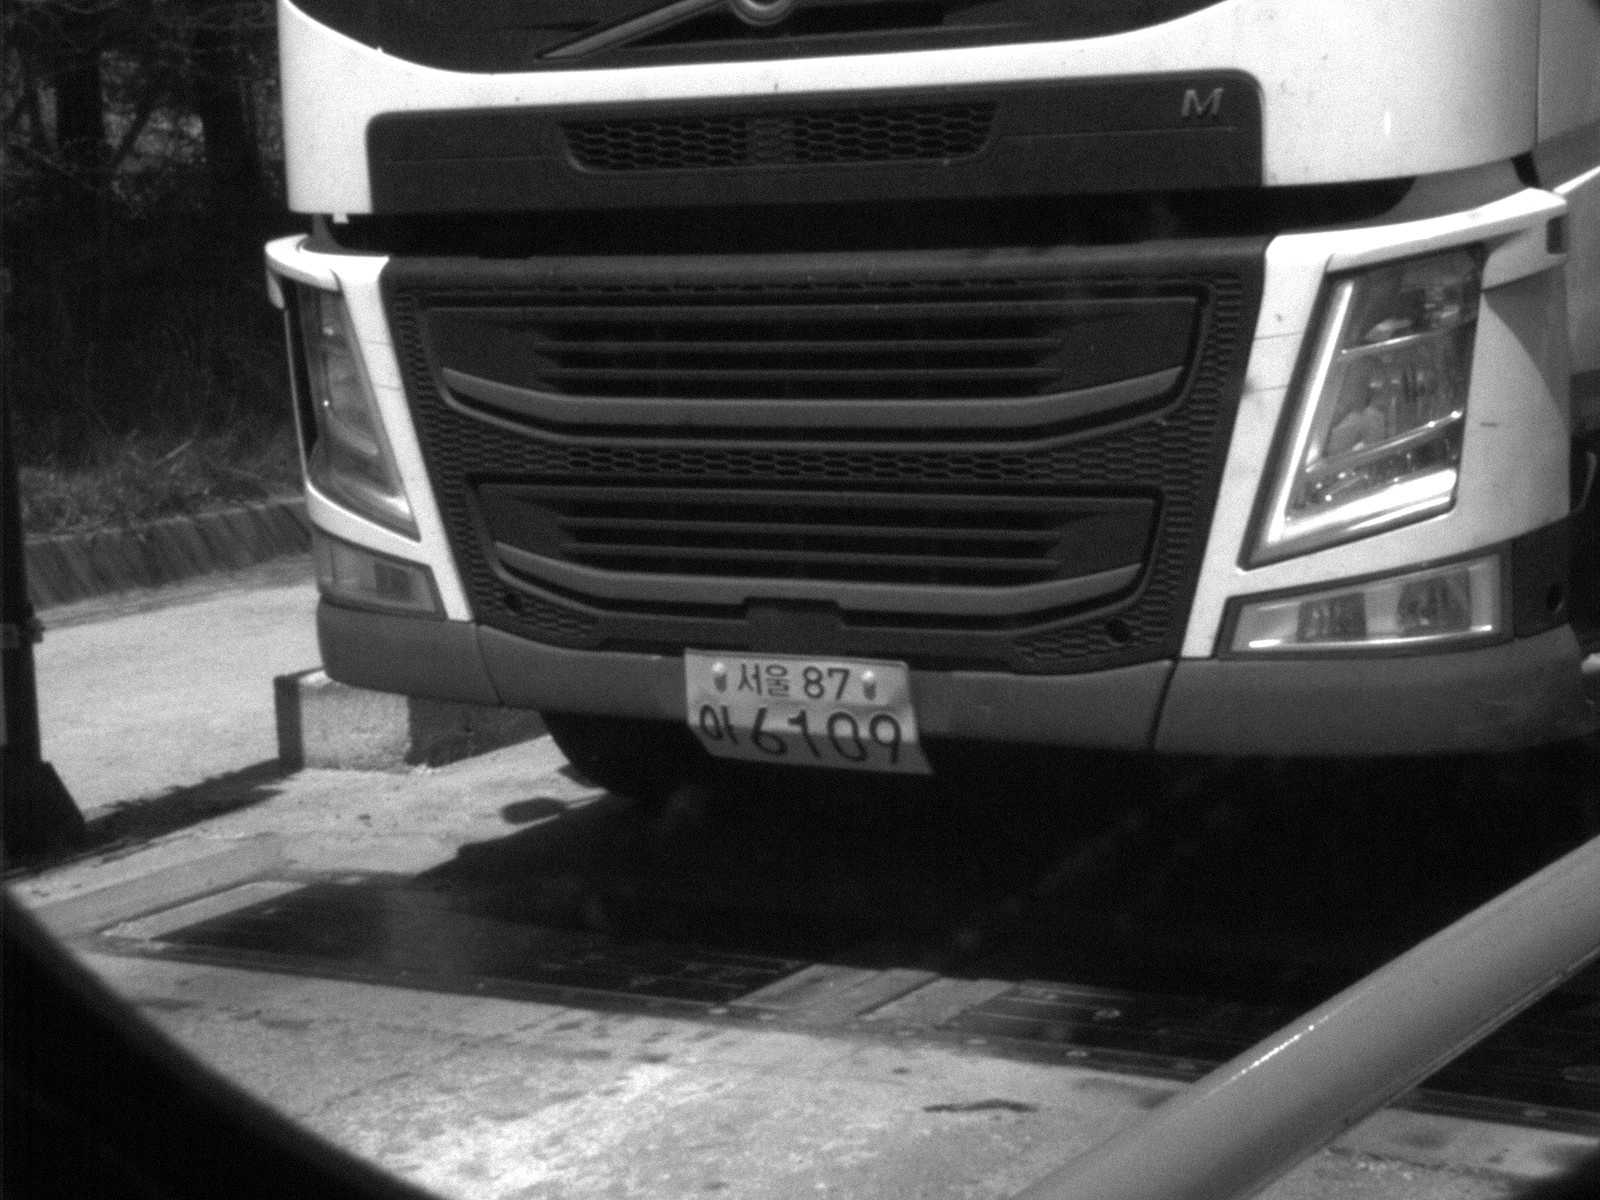car: (255, 1, 1600, 804)
plate: (679, 649, 940, 782)
